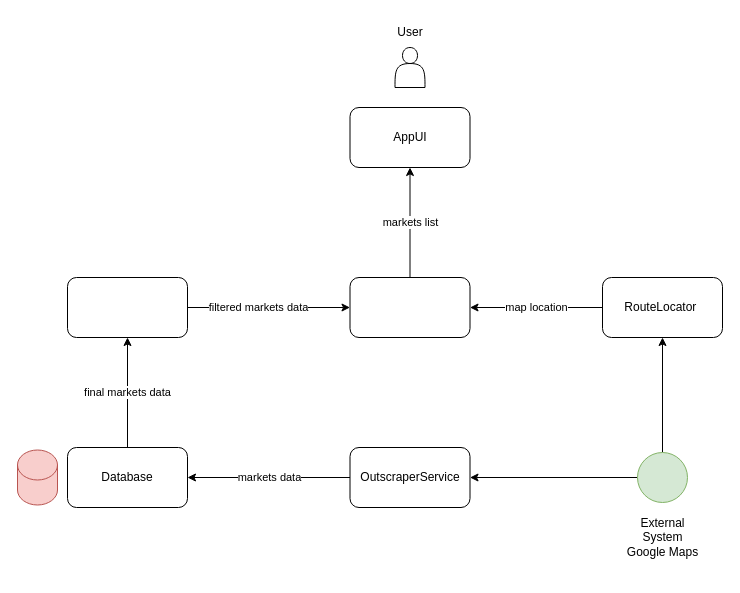
Image size: 740x593. Some labels were removed from this diagram. The centre of each missing label's shape, as x and y in pixels:
MarketService: [409,307]
MarketsFilter: [127,307]
